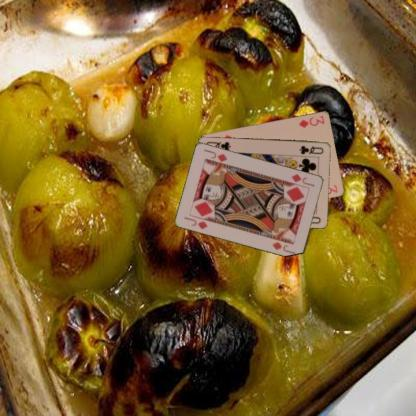3d: (296, 113, 326, 129)
Jd: (289, 171, 316, 188), (182, 214, 209, 230)
Qc: (297, 143, 325, 155)
